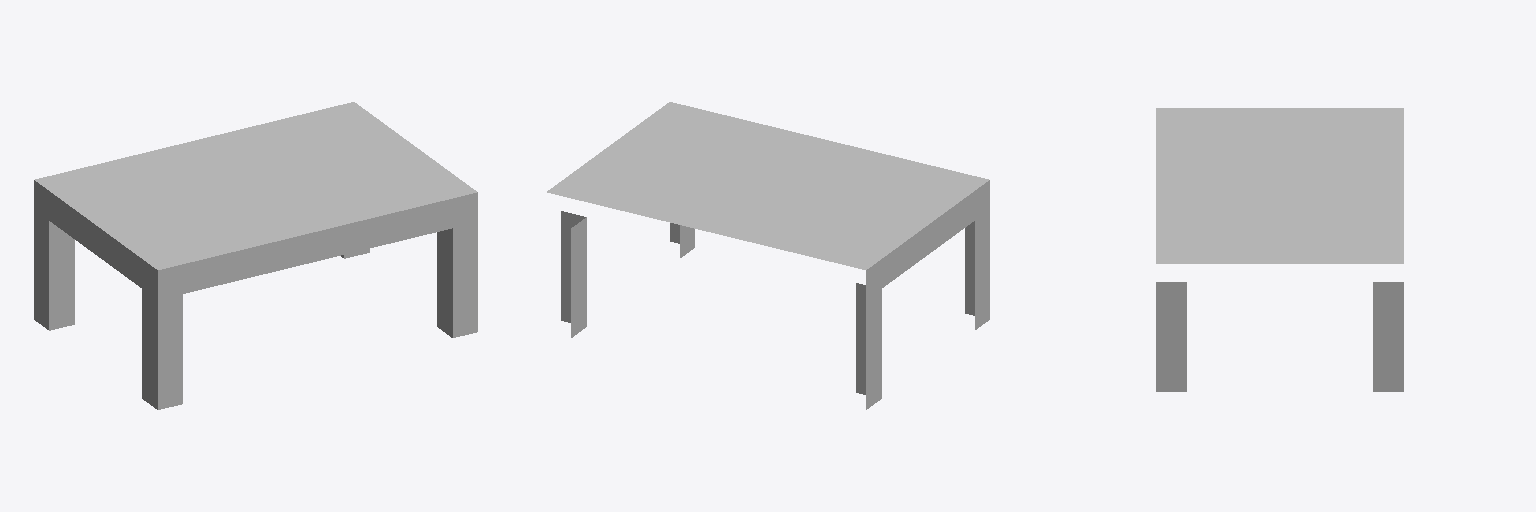
Rendered from office_table.obj.
3 renders of one model, left to right at view 1: azimuth 30°, elevation 25°; view 2: azimuth 150°, elevation 25°; view 3: azimuth 270°, elevation 25°, orthographic.
Parts seen in each view (by area): view 1: Table; view 2: Table; view 3: Table.
Boxes of the visible parts, box(x1,y1,x2,y2) form: Table: box(34, 102, 477, 409); Table: box(547, 102, 989, 409); Table: box(1156, 108, 1403, 391).
Bounding box in the file's own units: 2.4 × 1 × 1.61.